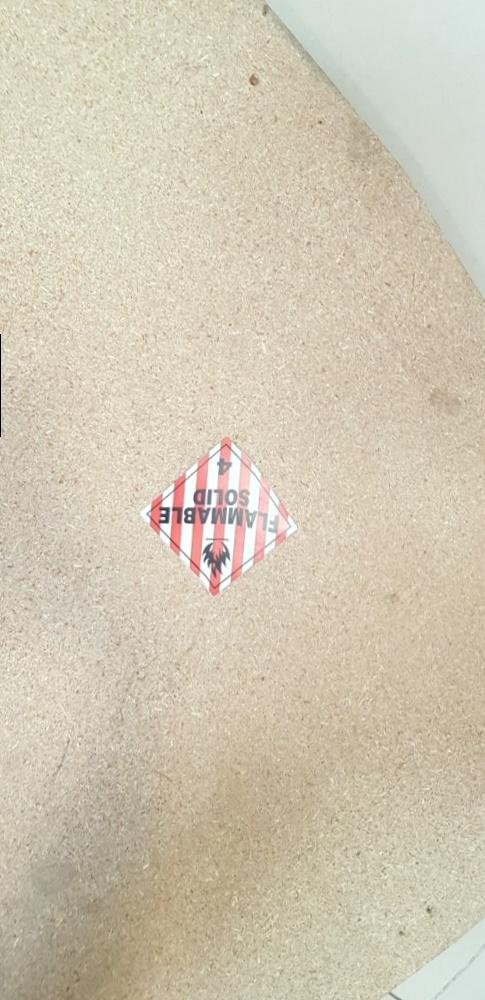flammable-solid: (136, 438, 299, 607)
